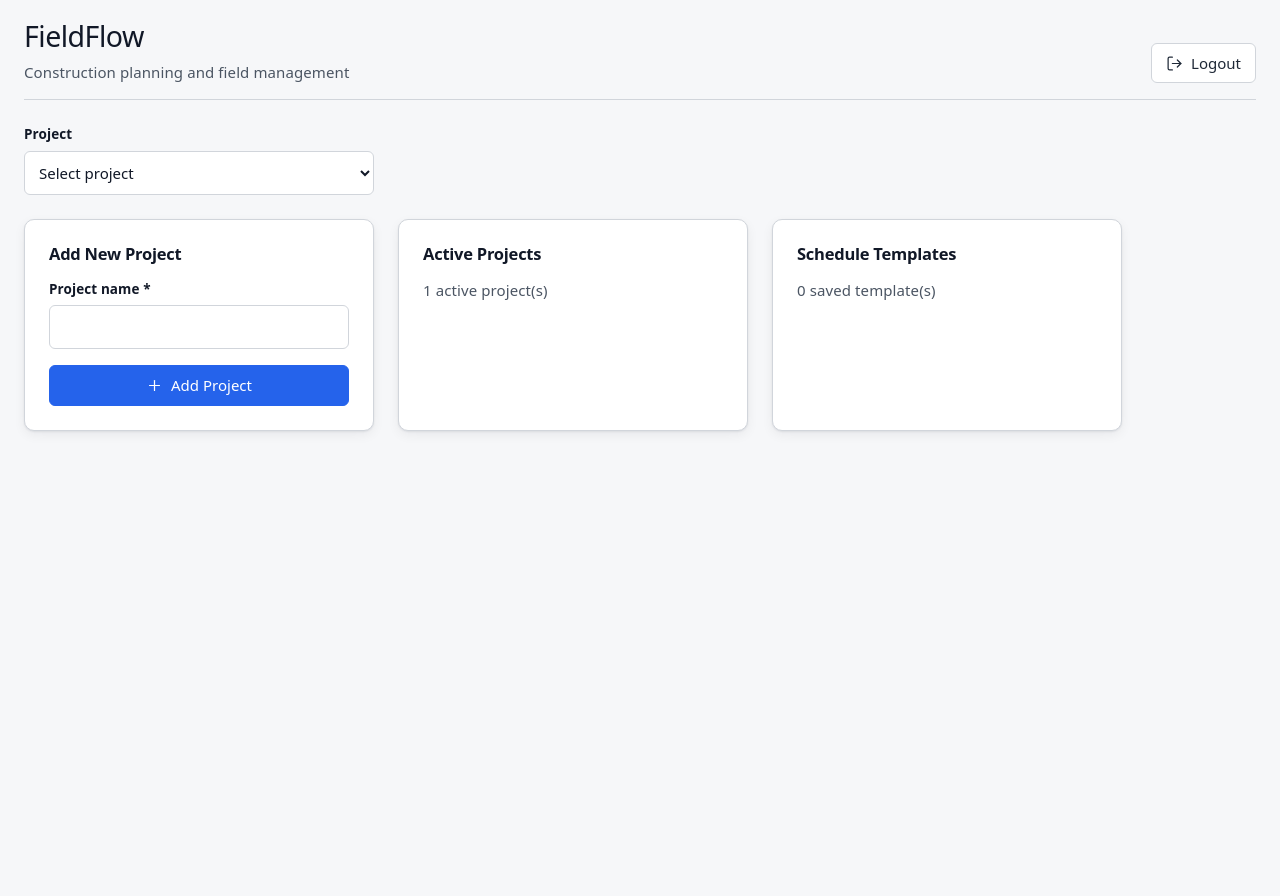
Test case: App integration (hooks wiring) › loads one aggregate request and no dashboard collections
The image size is (1280, 896).
Select "Riverside" in the dropdown labelled "Project" at {"x": 199, "y": 172}, box x1=24 y1=150 x2=374 y2=194
(page scrolled)
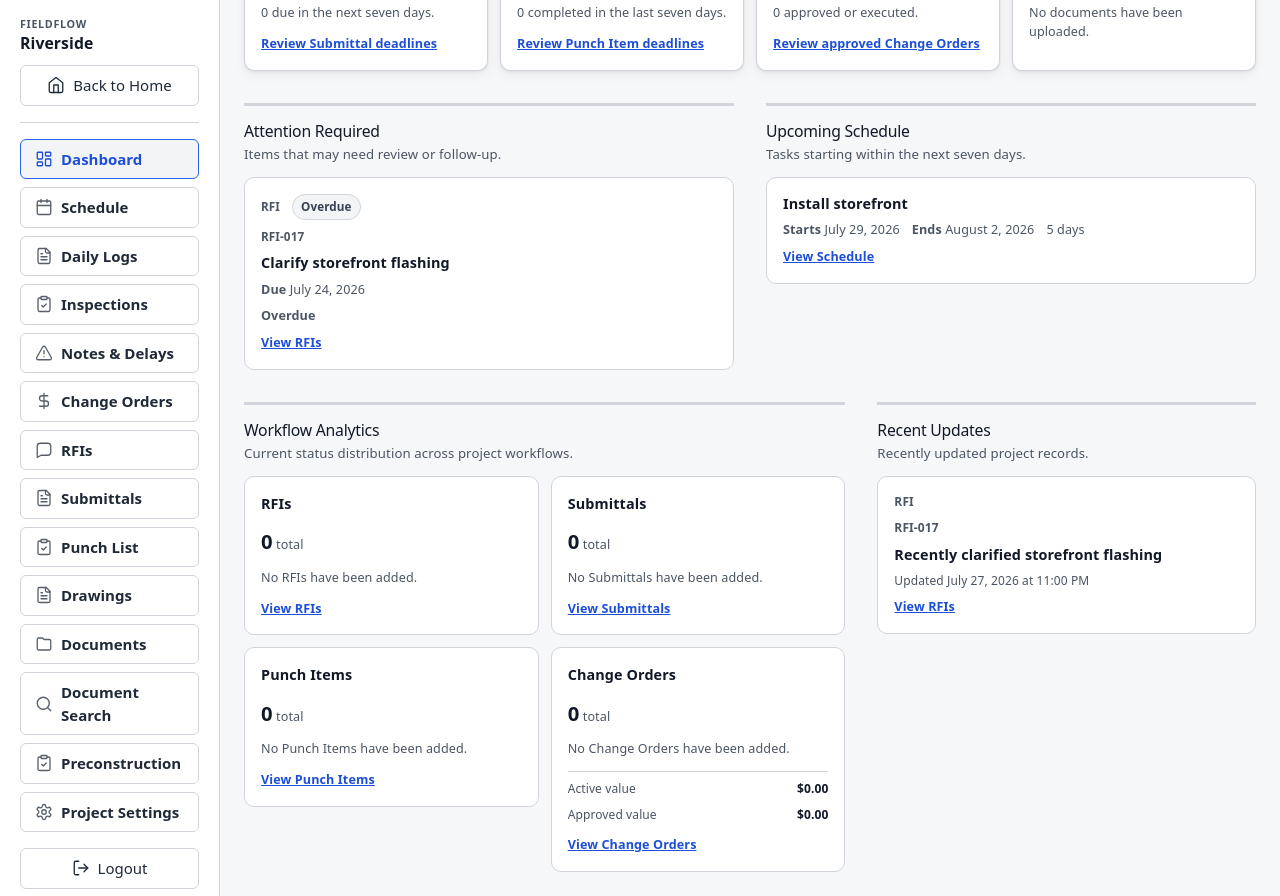
Result: the heading "Clarify storefront flashing" is shown at x1=261 y1=253 x2=450 y2=272
Result: the heading "Install storefront" is shown at x1=783 y1=194 x2=908 y2=213
Result: the heading "Recently clarified storefront flashing" is shown at x1=894 y1=545 x2=1162 y2=564
